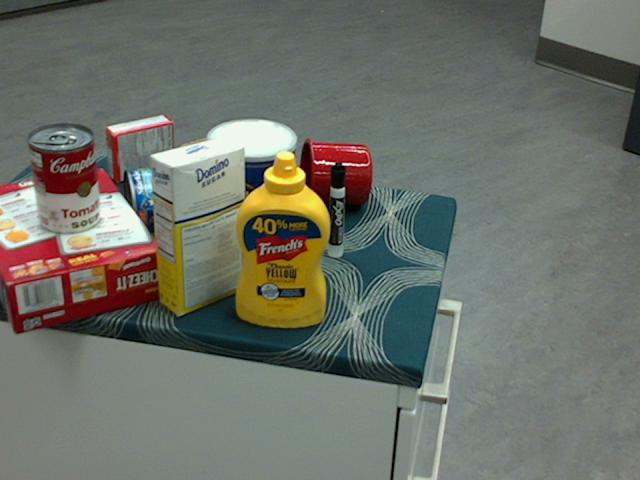cracker_box: (0, 166, 165, 333)
gelatin_box: (105, 115, 173, 182)
large_marker: (329, 162, 345, 257)
master_chef_can: (204, 118, 294, 262)
mug: (297, 136, 370, 208)
mustard_bottle: (235, 150, 331, 327)
potted_meat_can: (177, 128, 257, 217)
sugar_box: (149, 137, 246, 315)
tomato_soup_can: (27, 124, 100, 234)
tuna_fish_can: (121, 168, 160, 240)
